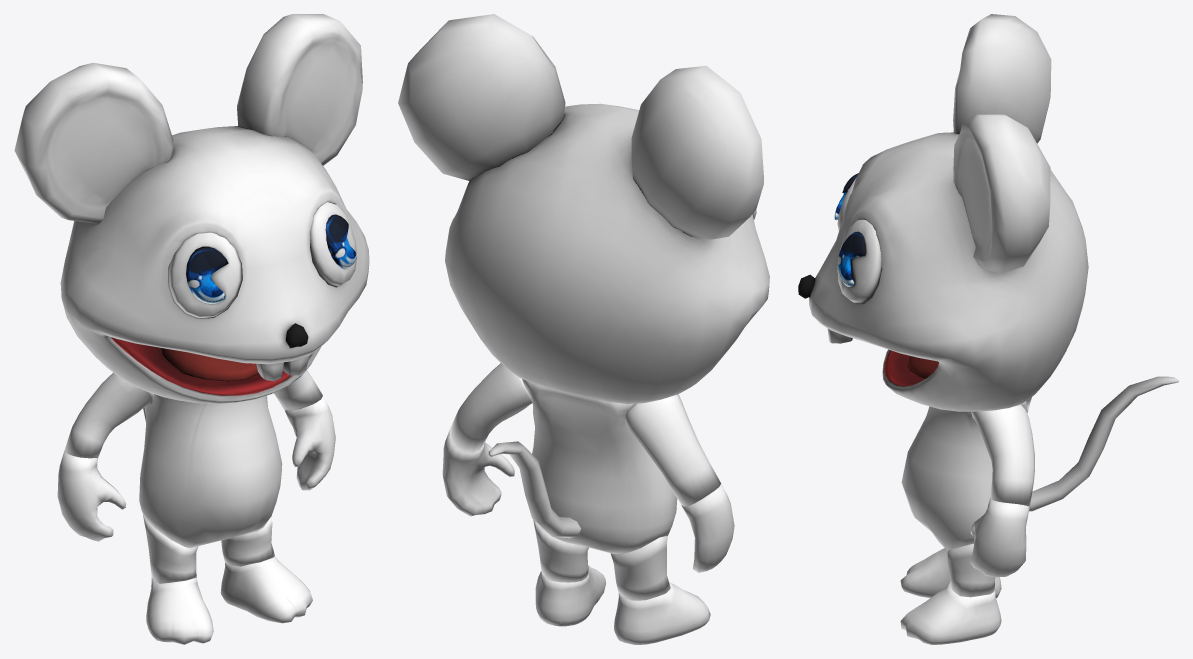
The model's file is SM_Character_Mouse.FBX.
3 renders of one model, left to right at view 1: azimuth 30°, elevation 25°; view 2: azimuth 150°, elevation 25°; view 3: azimuth 270°, elevation 25°, orthographic. The views are drawn at different scales.
Parts seen in each view (by area): view 1: NEWMouse, NEWBody; view 2: NEWMouse, NEWBody; view 3: NEWMouse, NEWBody.
Boxes of the visible parts, x1,y1,x2,y2 form: NEWMouse: [14, 14, 369, 421]; NEWBody: [57, 370, 335, 644]; NEWMouse: [398, 14, 769, 538]; NEWBody: [442, 363, 734, 644]; NEWMouse: [798, 14, 1178, 511]; NEWBody: [900, 397, 1034, 644].
Bounding box in the file's own units: 0.6797 × 1.08 × 0.6808.
